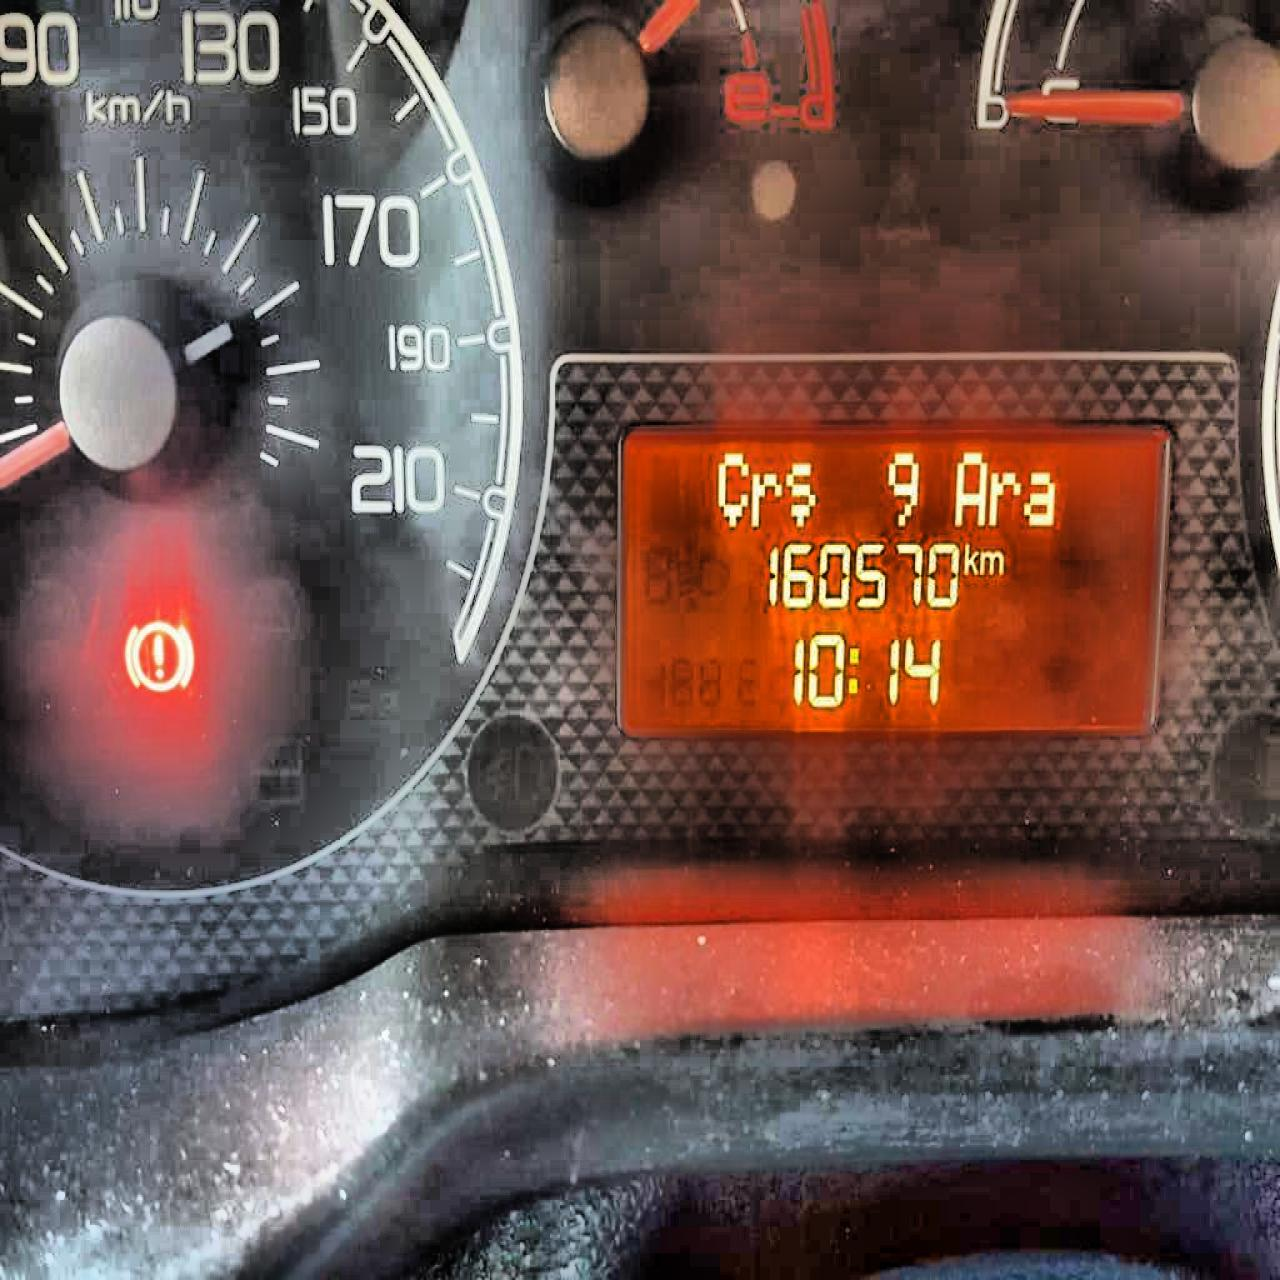0: (806, 629, 845, 708), (817, 538, 851, 608), (926, 542, 958, 606)
1: (886, 632, 899, 706), (791, 635, 804, 707), (767, 540, 778, 610)
4: (901, 632, 941, 706)
5: (855, 538, 887, 608)
6: (783, 538, 812, 608)
7: (894, 538, 924, 608)
9: (886, 450, 920, 529)
X: (713, 447, 748, 526), (954, 448, 985, 525), (785, 458, 816, 525), (1021, 470, 1055, 526), (750, 470, 782, 526), (987, 471, 1019, 526), (845, 641, 860, 696), (979, 546, 1003, 576), (961, 540, 978, 576)
odometer: (613, 415, 1177, 743)
